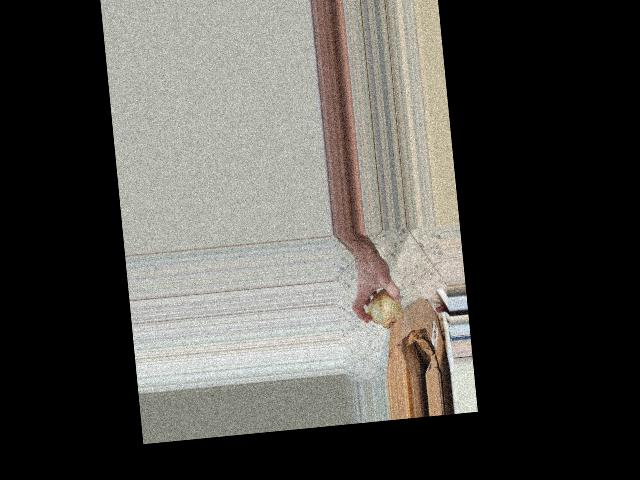onion: (363, 284, 405, 332)
